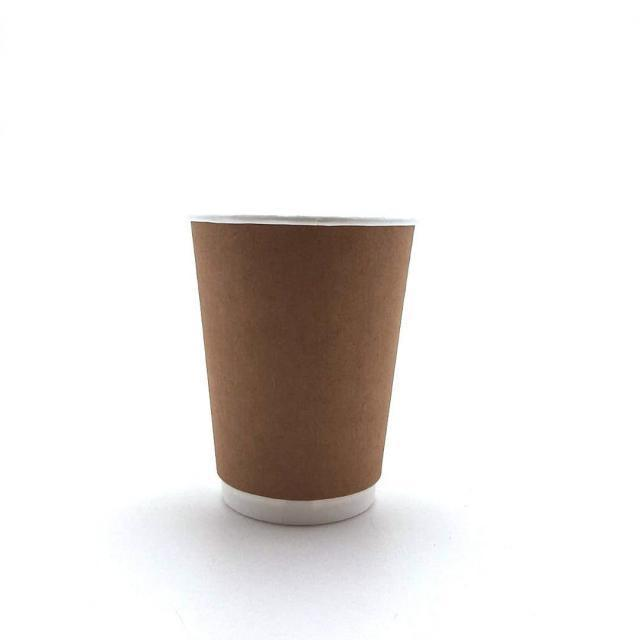trash: (174, 210, 453, 534)
